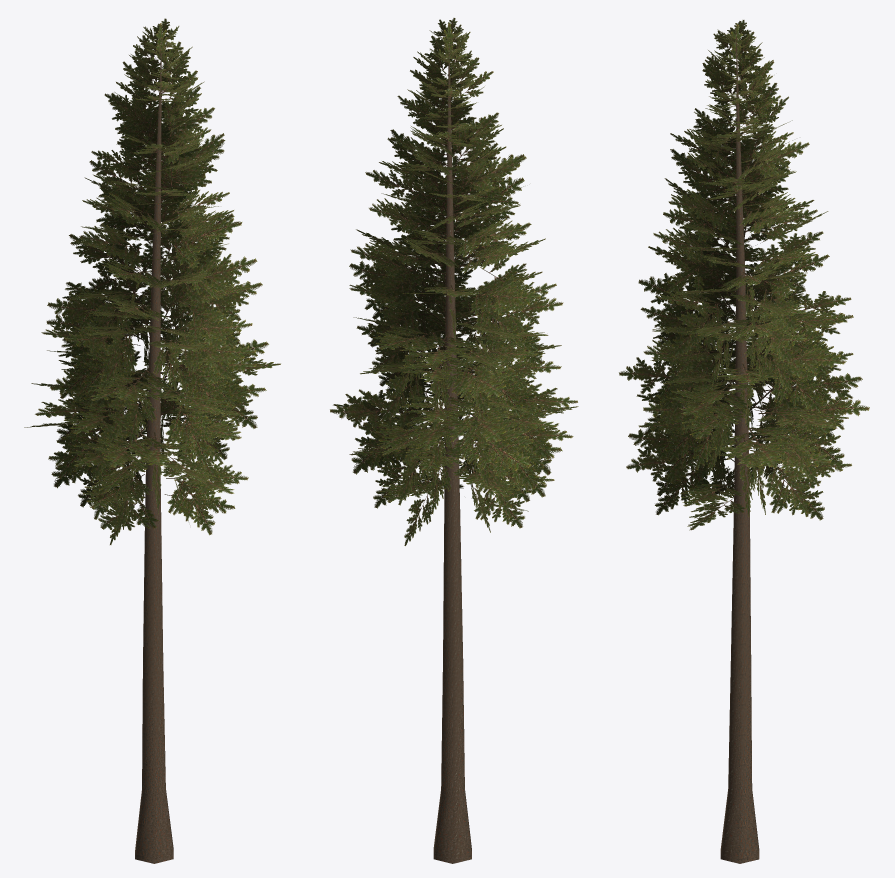
File: fir_giant_b_lod3.gltf
3 renders of one model, left to right at view 1: azimuth 30°, elevation 25°; view 2: azimuth 150°, elevation 25°; view 3: azimuth 270°, elevation 25°, orthographic.
Visible parts, largest first — view 1: fir_giant_b_LOD3; view 2: fir_giant_b_LOD3; view 3: fir_giant_b_LOD3.
Boxes of the visible parts, bbox=[...] form: fir_giant_b_LOD3: bbox=[24, 18, 280, 863]; fir_giant_b_LOD3: bbox=[330, 18, 578, 863]; fir_giant_b_LOD3: bbox=[619, 20, 869, 863].
Bounding box in the file's own units: 13.48 × 44.59 × 12.83.
2 materials, 2 textured.
